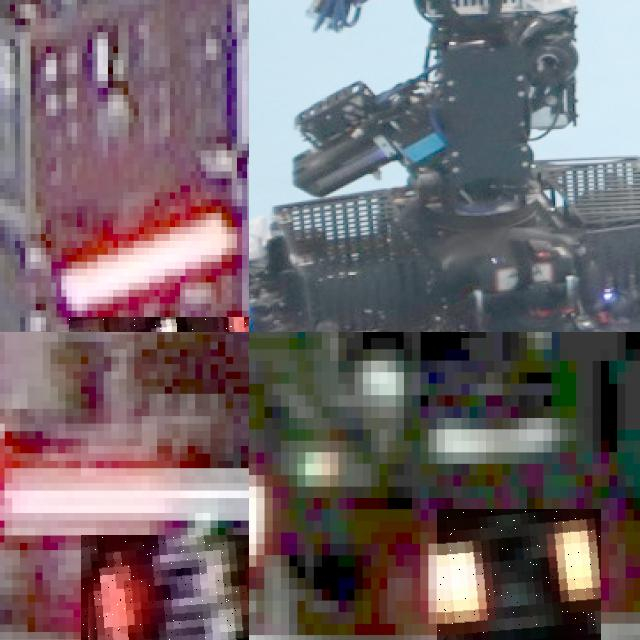R3: (80, 535, 249, 640)
Rs: (437, 509, 601, 640)
